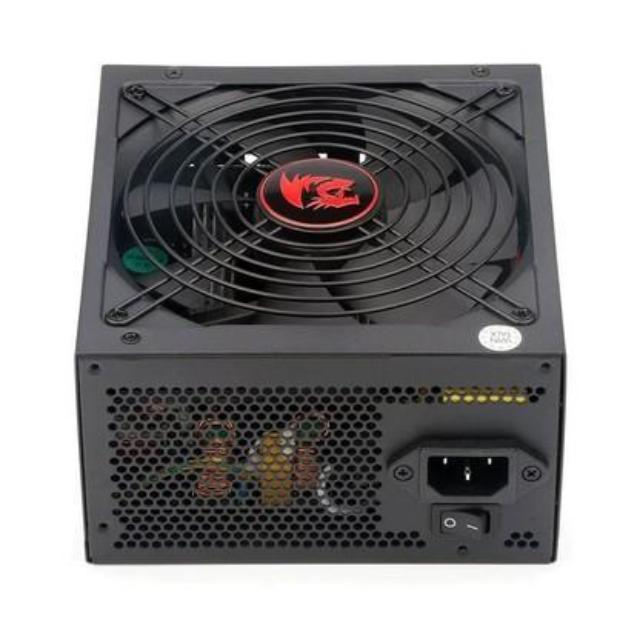PSU: (67, 57, 565, 585)
